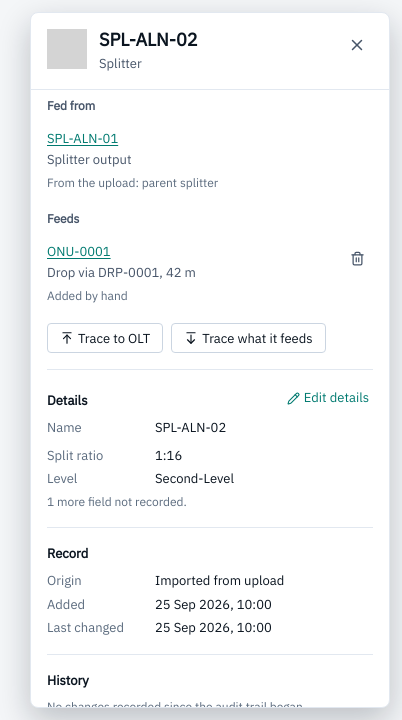
Scenario: AssetInspector › checks capacity before sending
(page scrolled)
Click the button "Edit details" at (328, 398), box [283,386,373,410]
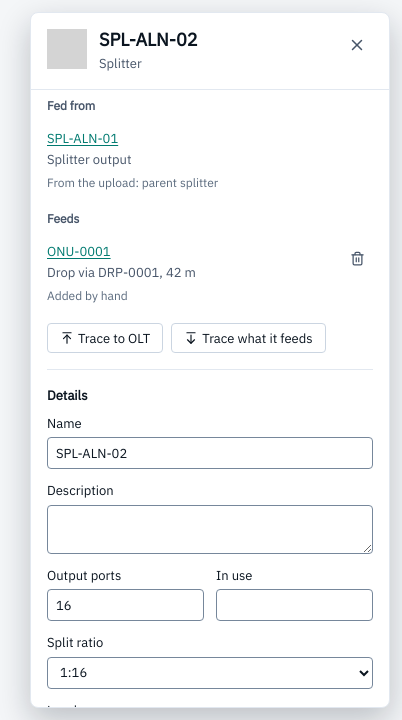
Type "40" into the field labelled "In use" at (294, 605), box [216,589,373,621]
(page scrolled)
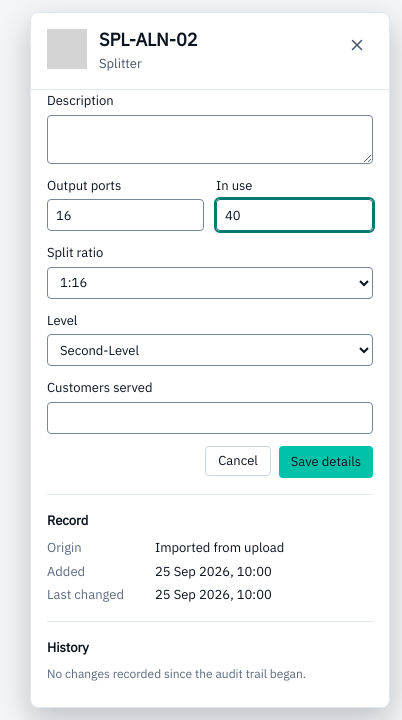
Click the button "Save details" at (326, 462), box [279,446,373,478]
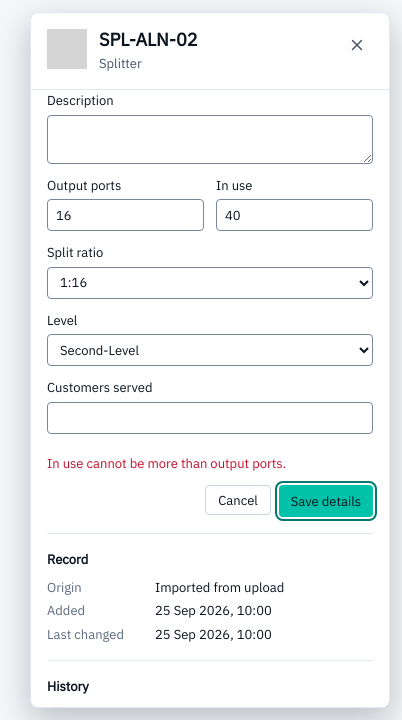
expect the message shows "In use cannot be more than output ports": met, box [47,455,286,472]
